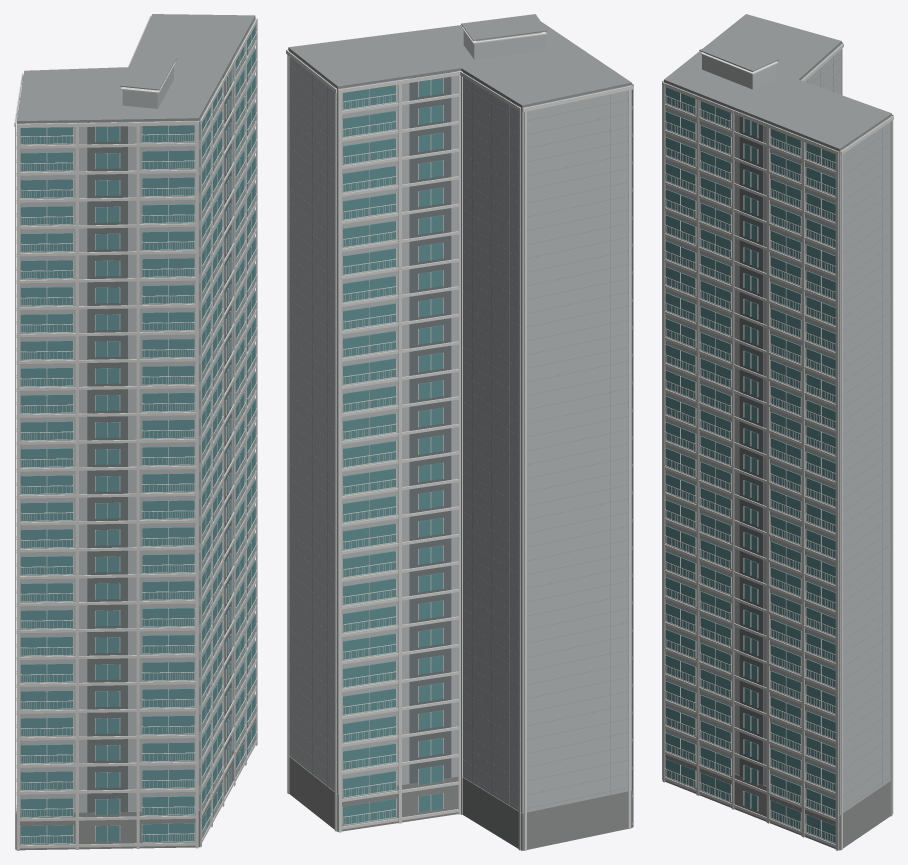
Rendered from bespoke-jamsil-ricenz-224.glb.
3 renders of one model, left to right at view 1: azimuth 30°, elevation 25°; view 2: azimuth 150°, elevation 25°; view 3: azimuth 270°, elevation 25°, orthographic. The views are drawn at different scales.
Parts seen in each view (by area): view 1: Ricenz224_editable_Ricenz224_turquoise_balcony_glazing, Ricenz224_white_exact_chunk_0, Ricenz224_editable_Ricenz224_light_grey_solid_wall, Ricenz224_editable_Ricenz224_narrow_charcoal_service_strips, Ricenz224_white_exact_chunk_1, Ricenz224_editable_Ricenz224_modest_grey_flat_roof_caps, Ricenz224_white_exact_chunk_2, Ricenz224_editable_Ricenz224_muted_ground_wall; view 2: Ricenz224_editable_Ricenz224_light_grey_solid_wall, Ricenz224_editable_Ricenz224_turquoise_balcony_glazing, Ricenz224_editable_Ricenz224_modest_grey_flat_roof_caps, Ricenz224_white_exact_chunk_2, Ricenz224_editable_Ricenz224_narrow_charcoal_service_strips, Ricenz224_white_exact_chunk_3, Ricenz224_editable_Ricenz224_muted_ground_wall, Ricenz224_white_exact_chunk_0; view 3: Ricenz224_editable_Ricenz224_turquoise_balcony_glazing, Ricenz224_editable_Ricenz224_light_grey_solid_wall, Ricenz224_white_exact_chunk_2, Ricenz224_white_exact_chunk_1, Ricenz224_editable_Ricenz224_modest_grey_flat_roof_caps, Ricenz224_editable_Ricenz224_narrow_charcoal_service_strips, Ricenz224_editable_Ricenz224_muted_ground_wall, Ricenz224_white_exact_chunk_0, Ricenz224_white_exact_chunk_3.
Boxes of the visible parts, x1,y1,x2,y2 form: Ricenz224_editable_Ricenz224_turquoise_balcony_glazing: (20, 26, 255, 843); Ricenz224_white_exact_chunk_0: (14, 73, 212, 850); Ricenz224_editable_Ricenz224_light_grey_solid_wall: (16, 18, 255, 812); Ricenz224_editable_Ricenz224_narrow_charcoal_service_strips: (87, 62, 231, 812); Ricenz224_white_exact_chunk_1: (200, 70, 246, 822); Ricenz224_editable_Ricenz224_modest_grey_flat_roof_caps: (16, 14, 255, 808); Ricenz224_white_exact_chunk_2: (200, 17, 257, 847); Ricenz224_editable_Ricenz224_muted_ground_wall: (15, 713, 255, 850); Ricenz224_editable_Ricenz224_light_grey_solid_wall: (288, 31, 631, 813); Ricenz224_editable_Ricenz224_turquoise_balcony_glazing: (342, 78, 442, 824); Ricenz224_editable_Ricenz224_modest_grey_flat_roof_caps: (288, 14, 631, 809); Ricenz224_white_exact_chunk_2: (286, 49, 458, 831); Ricenz224_editable_Ricenz224_narrow_charcoal_service_strips: (409, 72, 451, 783); Ricenz224_white_exact_chunk_3: (338, 27, 546, 850); Ricenz224_editable_Ricenz224_muted_ground_wall: (289, 756, 632, 850); Ricenz224_white_exact_chunk_0: (522, 83, 633, 850); Ricenz224_editable_Ricenz224_turquoise_balcony_glazing: (665, 87, 835, 842); Ricenz224_editable_Ricenz224_light_grey_solid_wall: (664, 43, 891, 814); Ricenz224_white_exact_chunk_2: (662, 82, 893, 850); Ricenz224_white_exact_chunk_1: (664, 87, 801, 833); Ricenz224_editable_Ricenz224_modest_grey_flat_roof_caps: (664, 14, 891, 811); Ricenz224_editable_Ricenz224_narrow_charcoal_service_strips: (739, 112, 763, 784); Ricenz224_editable_Ricenz224_muted_ground_wall: (665, 750, 890, 850); Ricenz224_white_exact_chunk_0: (662, 42, 842, 792); Ricenz224_white_exact_chunk_3: (700, 43, 893, 813).
Bounding box in the file's own units: 33.52 × 82.56 × 24.08.
